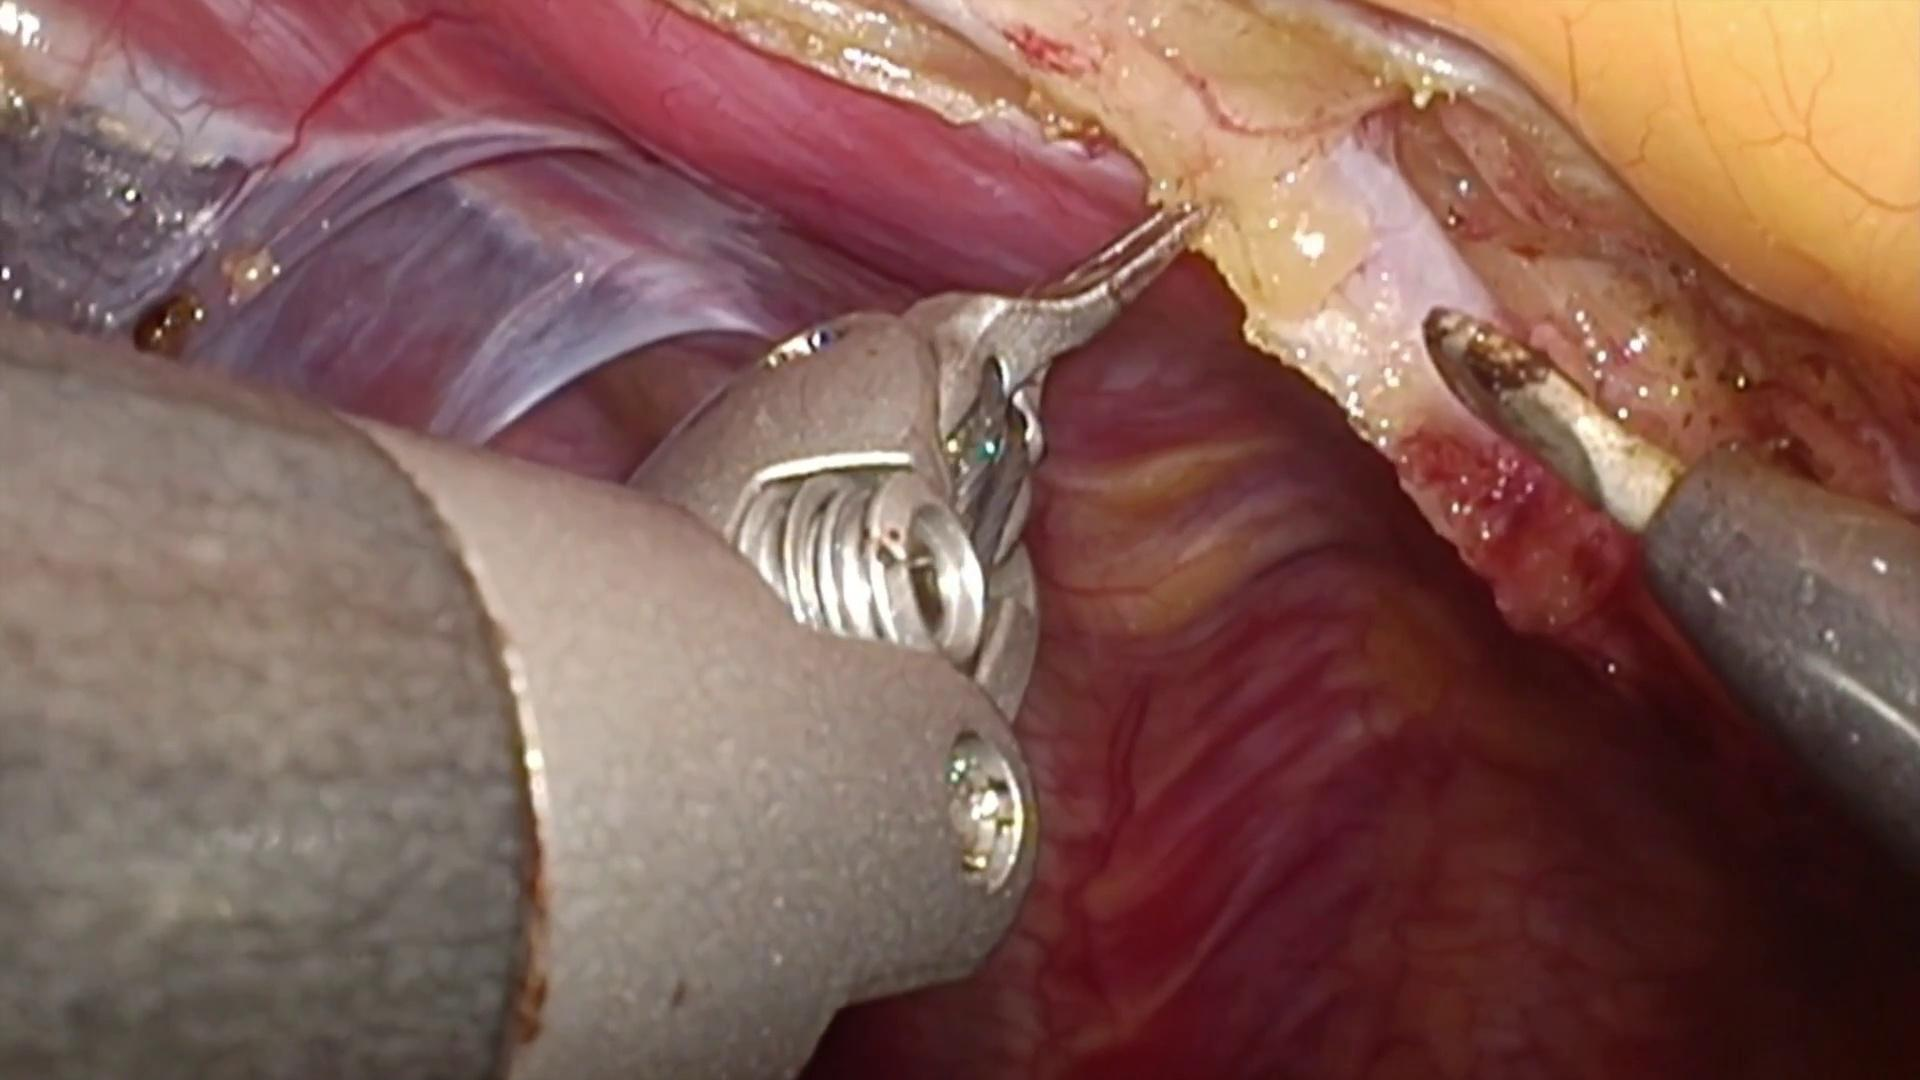Cautery_Spatula: (1422, 309, 1920, 899)
Debakey: (918, 144, 1225, 435)
